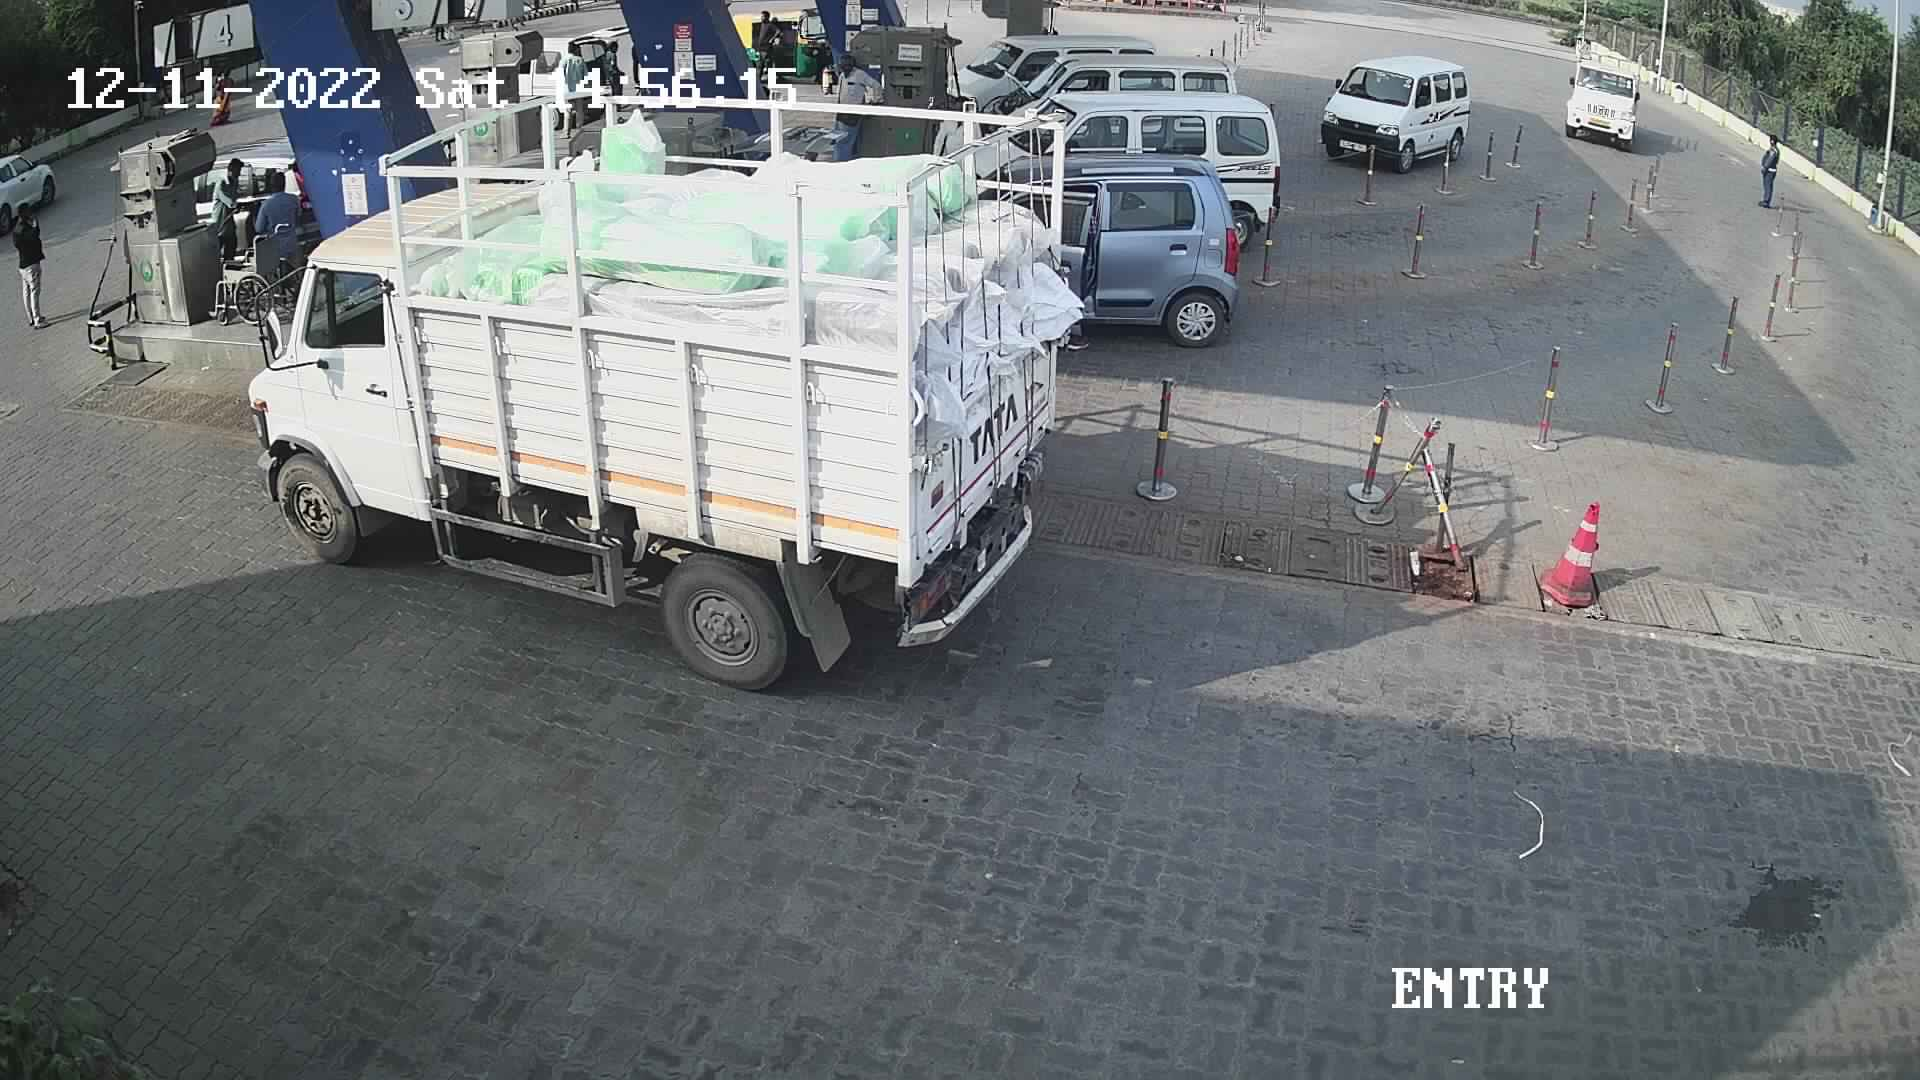Auto: (723, 0, 843, 92)
Car: (931, 80, 1284, 258), (963, 144, 1245, 351), (926, 45, 1242, 165), (1305, 38, 1480, 179), (179, 131, 320, 272), (940, 29, 1160, 113), (508, 18, 640, 131), (1552, 44, 1654, 153), (0, 128, 66, 252)
HMV: (236, 78, 1098, 700)
